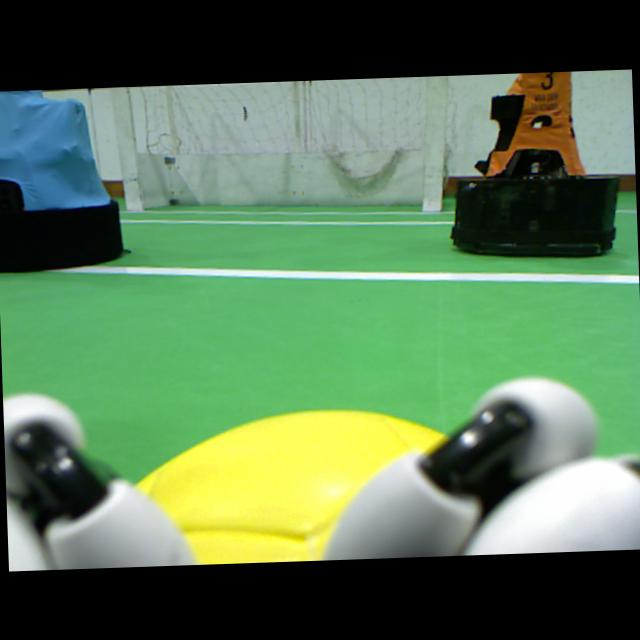ball: (136, 412, 446, 564)
goal: (112, 87, 142, 211), (422, 76, 444, 210)
robot: (452, 73, 619, 258)
